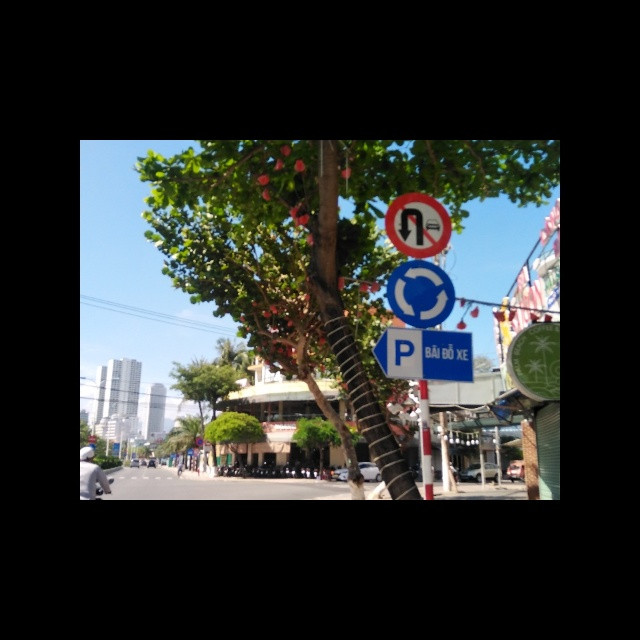Cấm xe ô tô quay đầu: (385, 192, 453, 261)
Nơi giao nhau chạy theo vòng xuyến: (386, 263, 457, 327)
Nơi đỗ xe: (373, 328, 474, 382)
